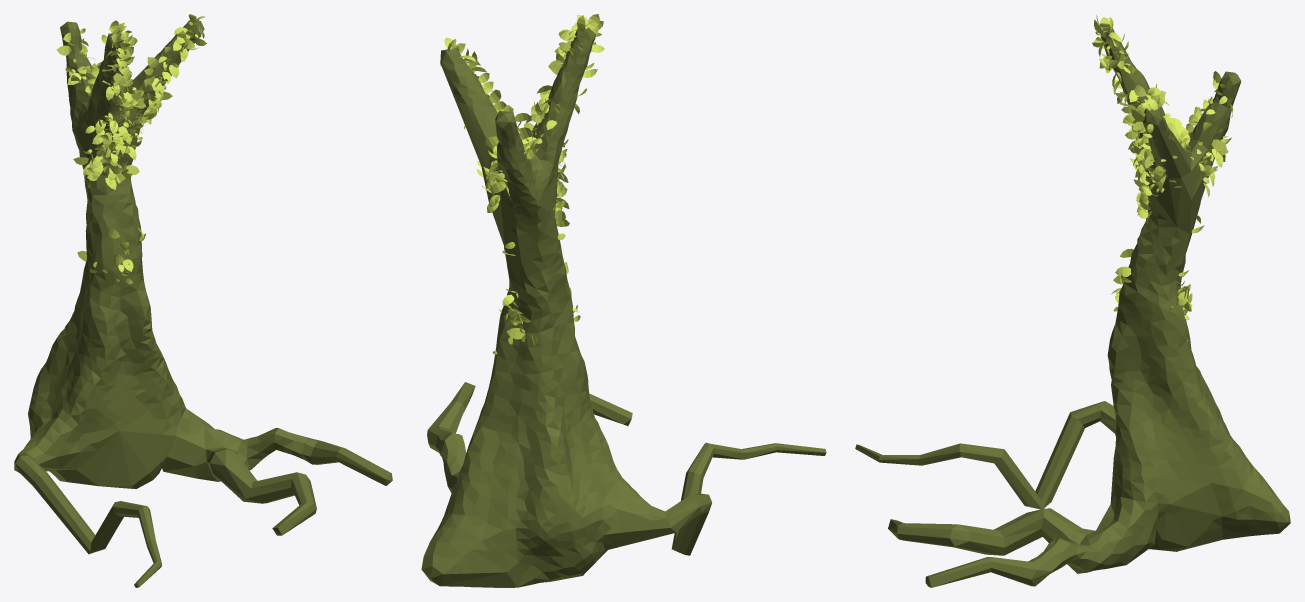
The model's file is Tree_Dead_2.fbx.
3 renders of one model, left to right at view 1: azimuth 30°, elevation 25°; view 2: azimuth 150°, elevation 25°; view 3: azimuth 270°, elevation 25°, orthographic. The views are drawn at different scales.
Parts seen in each view (by area): view 1: Tree.004; view 2: Tree.004; view 3: Tree.004.
Boxes of the visible parts, x1,y1,x2,y2 form: Tree.004: [14, 19, 392, 587]; Tree.004: [421, 27, 826, 587]; Tree.004: [855, 28, 1290, 587].
Size of the model in its own units: 317 by 507 by 383.
